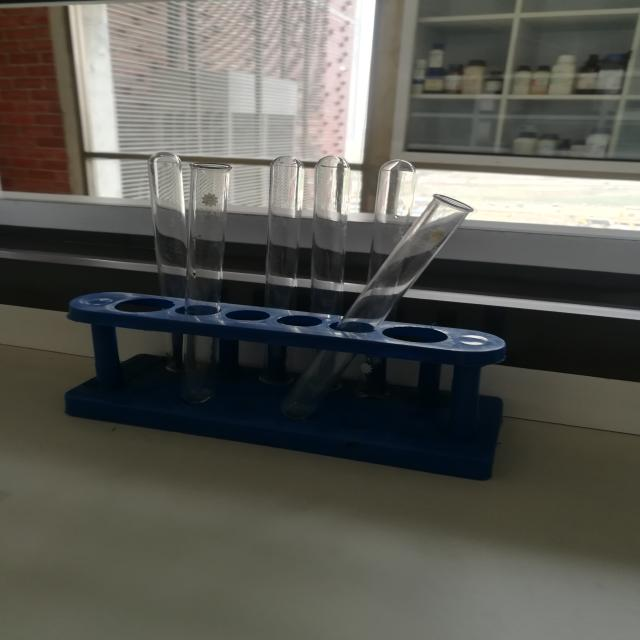Test_Tube: (117, 107, 497, 476)
